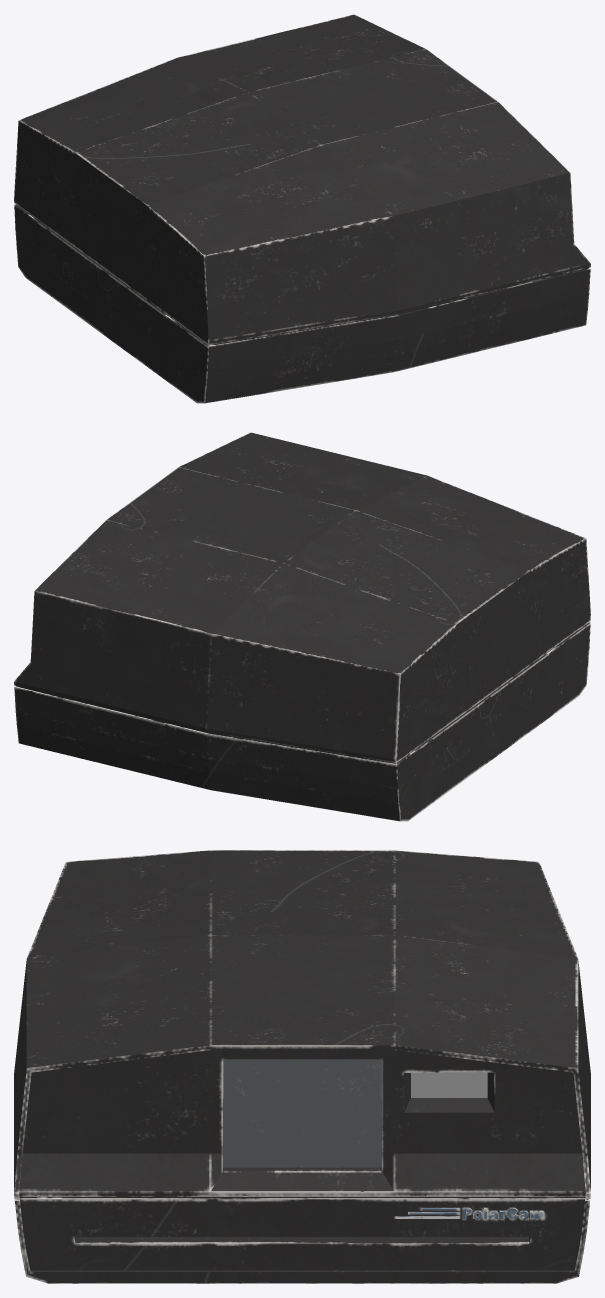
The model's file is polaroid.fbx.
The picture shows the model from 3 angles, top to bottom: view 1: azimuth 30°, elevation 25°; view 2: azimuth 150°, elevation 25°; view 3: azimuth 270°, elevation 25°; orthographic projection. The views are drawn at different scales.
Parts seen in each view (by area): view 1: polaroid_cam___Copie:cam_1; view 2: polaroid_cam___Copie:cam_1; view 3: polaroid_cam___Copie:cam_1.
Boxes of the visible parts, left/top/right/bottom form: polaroid_cam___Copie:cam_1: left=14, top=14, right=590, bottom=403; polaroid_cam___Copie:cam_1: left=14, top=432, right=590, bottom=821; polaroid_cam___Copie:cam_1: left=14, top=850, right=590, bottom=1283.
Size of the model in its own units: 21.89 by 10.25 by 23.43.
Materials: 1 (1 with a texture image).
